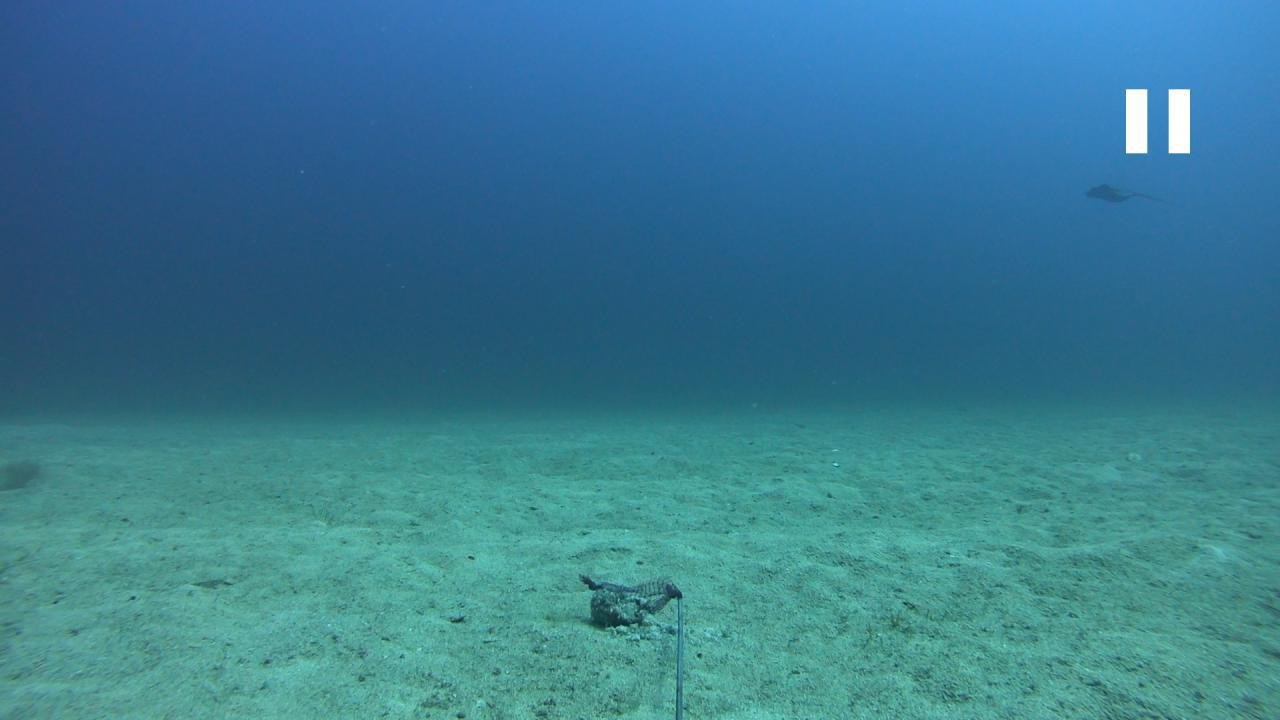dasyatis: (1084, 181, 1164, 208)
